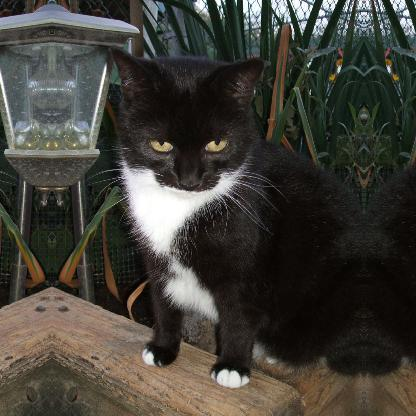Cat: (80, 43, 364, 389)
